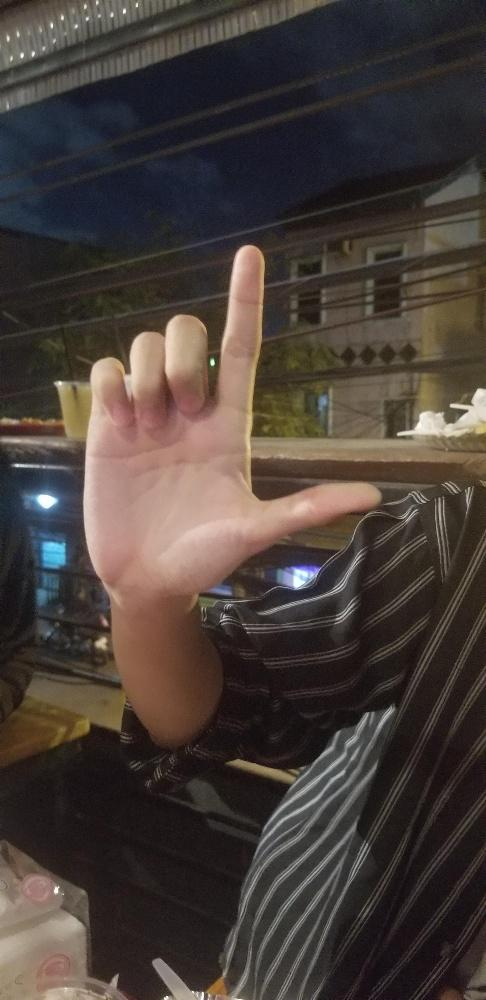l: (80, 240, 382, 597)
